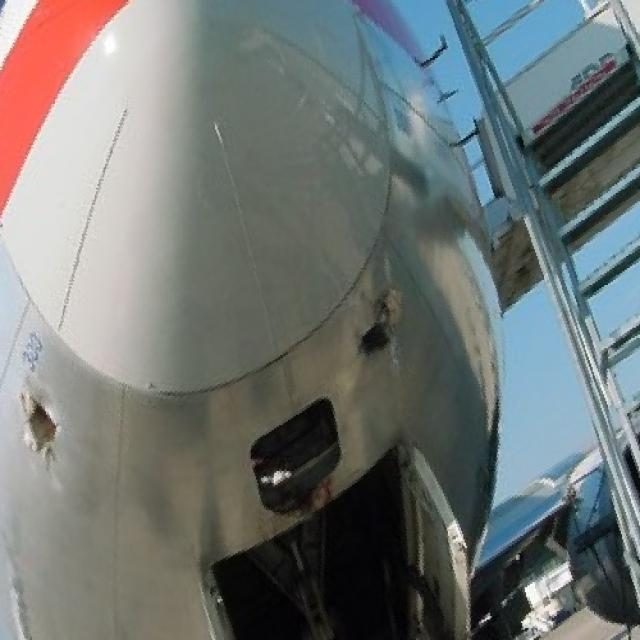dent: (15, 392, 65, 467), (357, 289, 397, 351)
